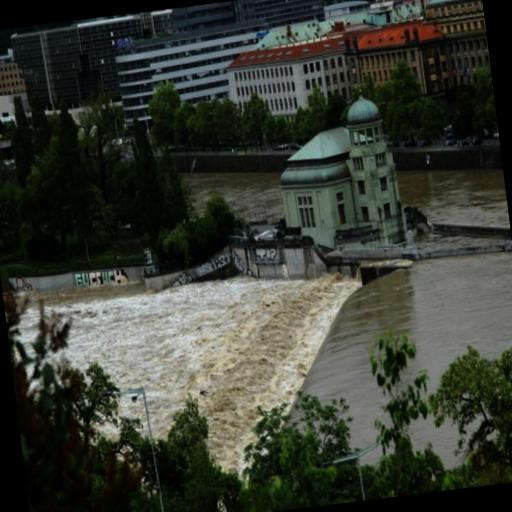flood: (21, 253, 512, 472), (400, 170, 510, 225), (185, 173, 283, 217), (413, 420, 460, 466), (120, 399, 143, 419)
house: (266, 91, 410, 264), (9, 13, 154, 127), (112, 24, 268, 126), (224, 28, 354, 119), (356, 17, 452, 109), (425, 0, 491, 87), (237, 0, 328, 33), (0, 58, 27, 126)
